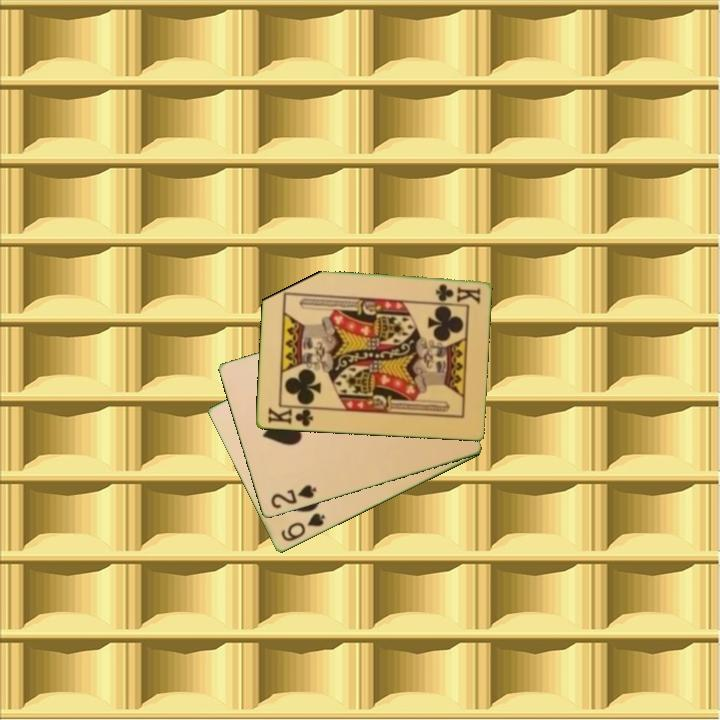2s: (267, 481, 319, 512)
6s: (277, 510, 328, 545)
Kc: (264, 404, 318, 429), (432, 281, 483, 305)
